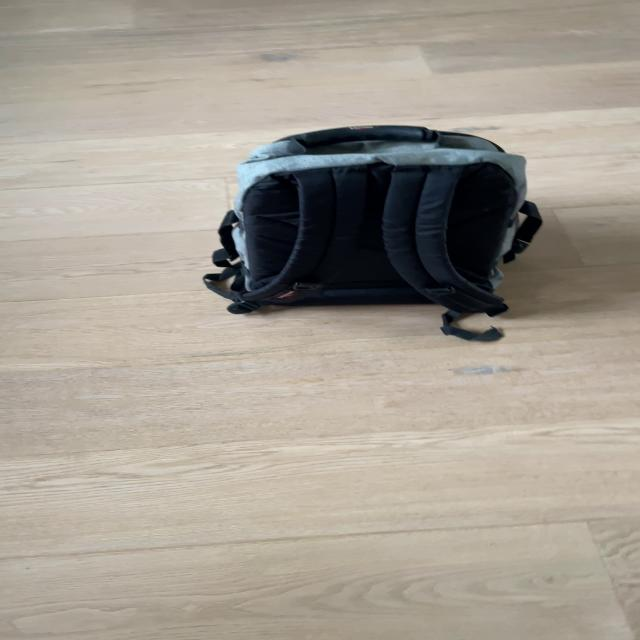backpack: (192, 115, 556, 319)
